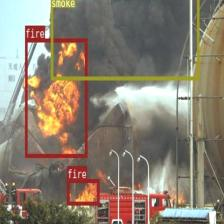fire: (25, 38, 87, 156), (67, 179, 99, 205)
smoke: (50, 0, 198, 79)
